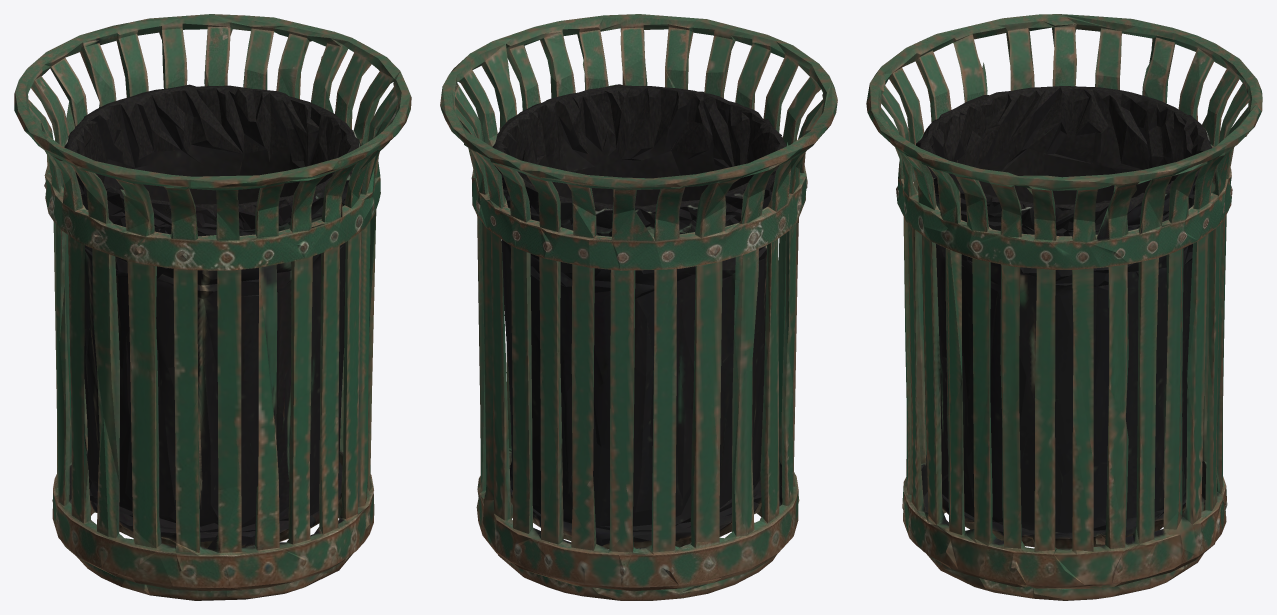
File: street-bin.glb
The picture shows the model from 3 angles, left to right: view 1: azimuth 30°, elevation 25°; view 2: azimuth 150°, elevation 25°; view 3: azimuth 270°, elevation 25°; orthographic projection.
Parts seen in each view (by area): view 1: Mesh_0; view 2: Mesh_0; view 3: Mesh_0.
Boxes of the visible parts, x1,y1,x2,y2 form: Mesh_0: (14, 14, 411, 600); Mesh_0: (440, 14, 837, 600); Mesh_0: (866, 14, 1262, 600).
Size of the model in its own units: 1.54 by 1.9 by 1.54.
Materials: 1 (1 with a texture image).
